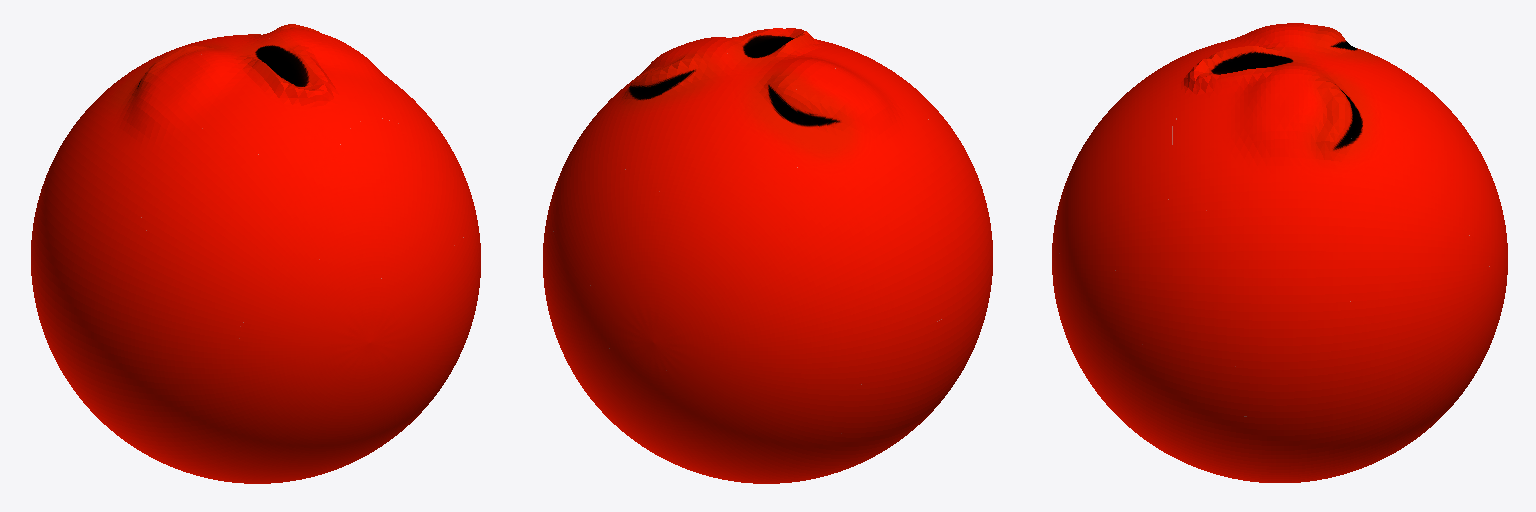
The picture shows the model from 3 angles: view 1: azimuth 30°, elevation 25°; view 2: azimuth 150°, elevation 25°; view 3: azimuth 270°, elevation 25°; orthographic projection.
Size of the model in its own units: 0.9818 by 0.9971 by 1.
1 materials, 1 textured.